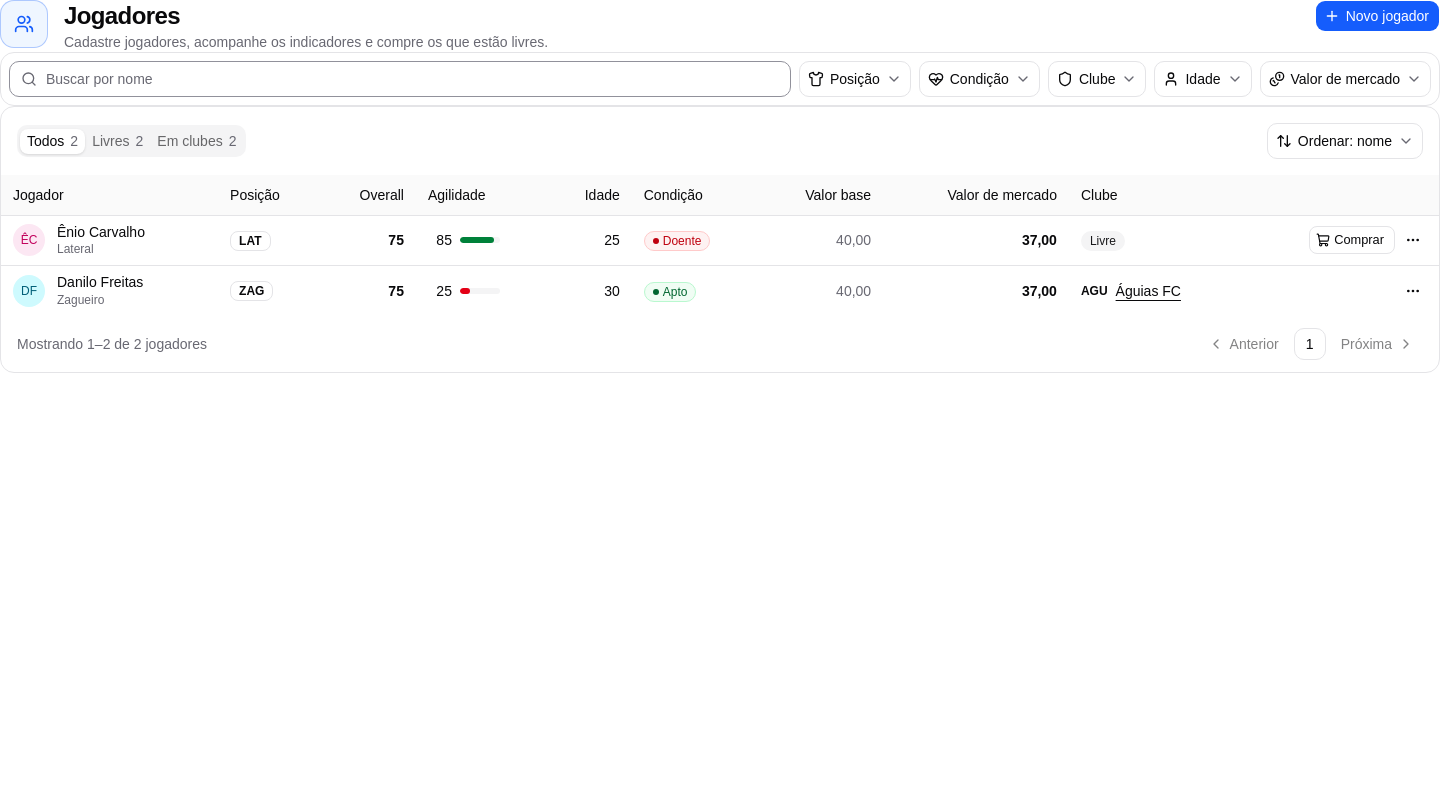
Test case: exclusão de jogador › confirma e envia o DELETE
The image size is (1440, 810).
Click the button named "Ações de Ênio Carvalho": (1413, 240) [1399,226,1427,254]
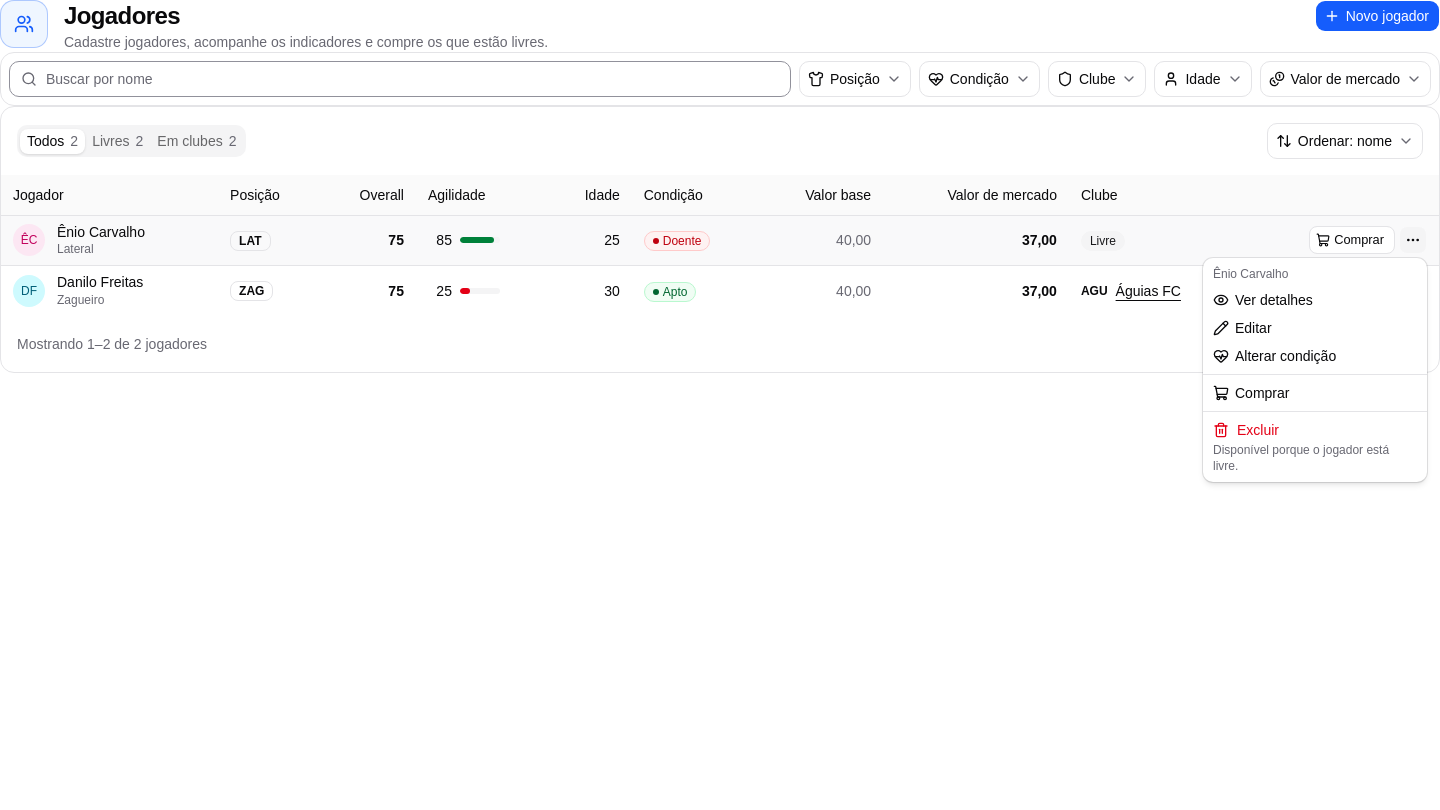
Click the menu item "Excluir Disponível porque o jogador está livre.": (1301, 448) [1213,422,1389,473]
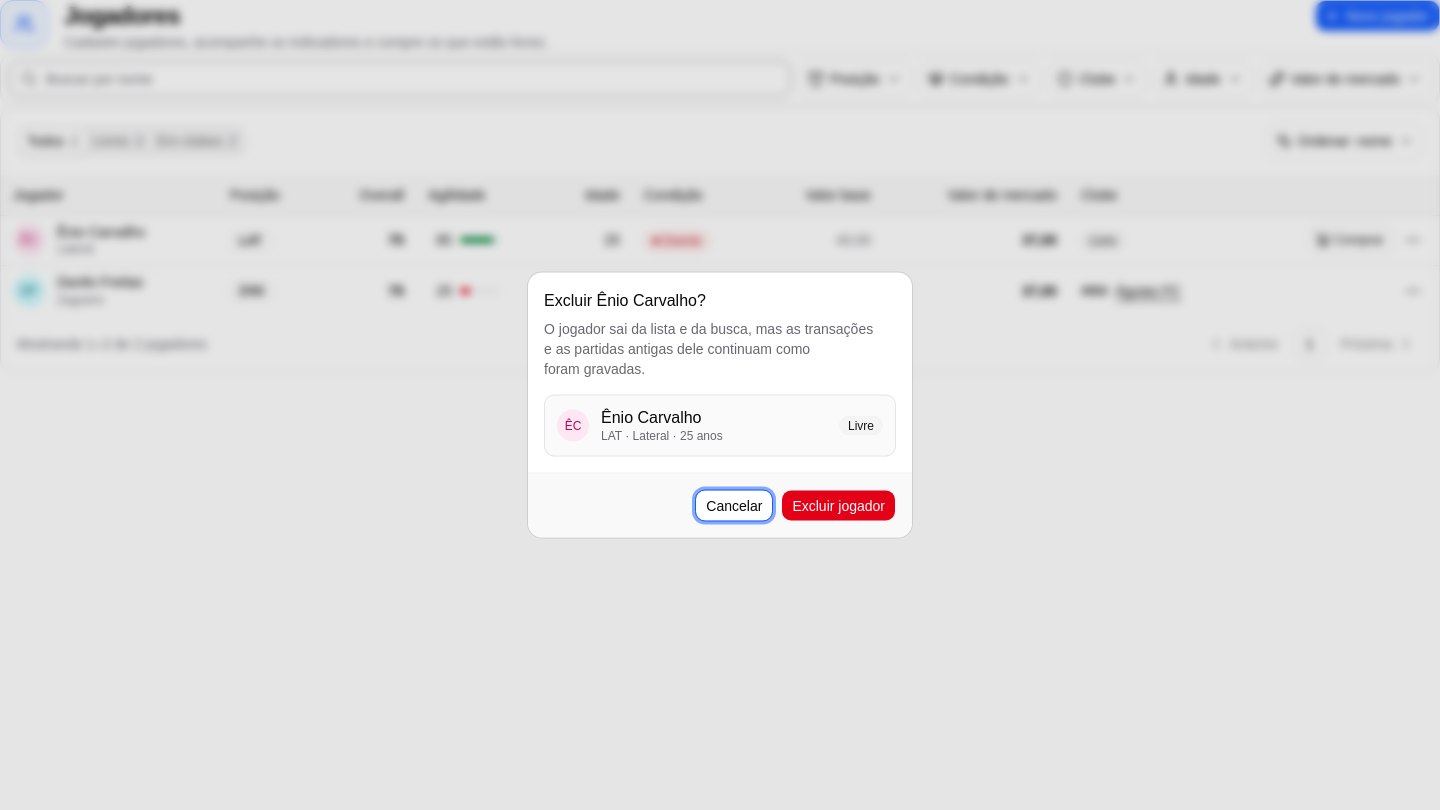
Click the button "Excluir jogador": (839, 506) [781,490,896,522]
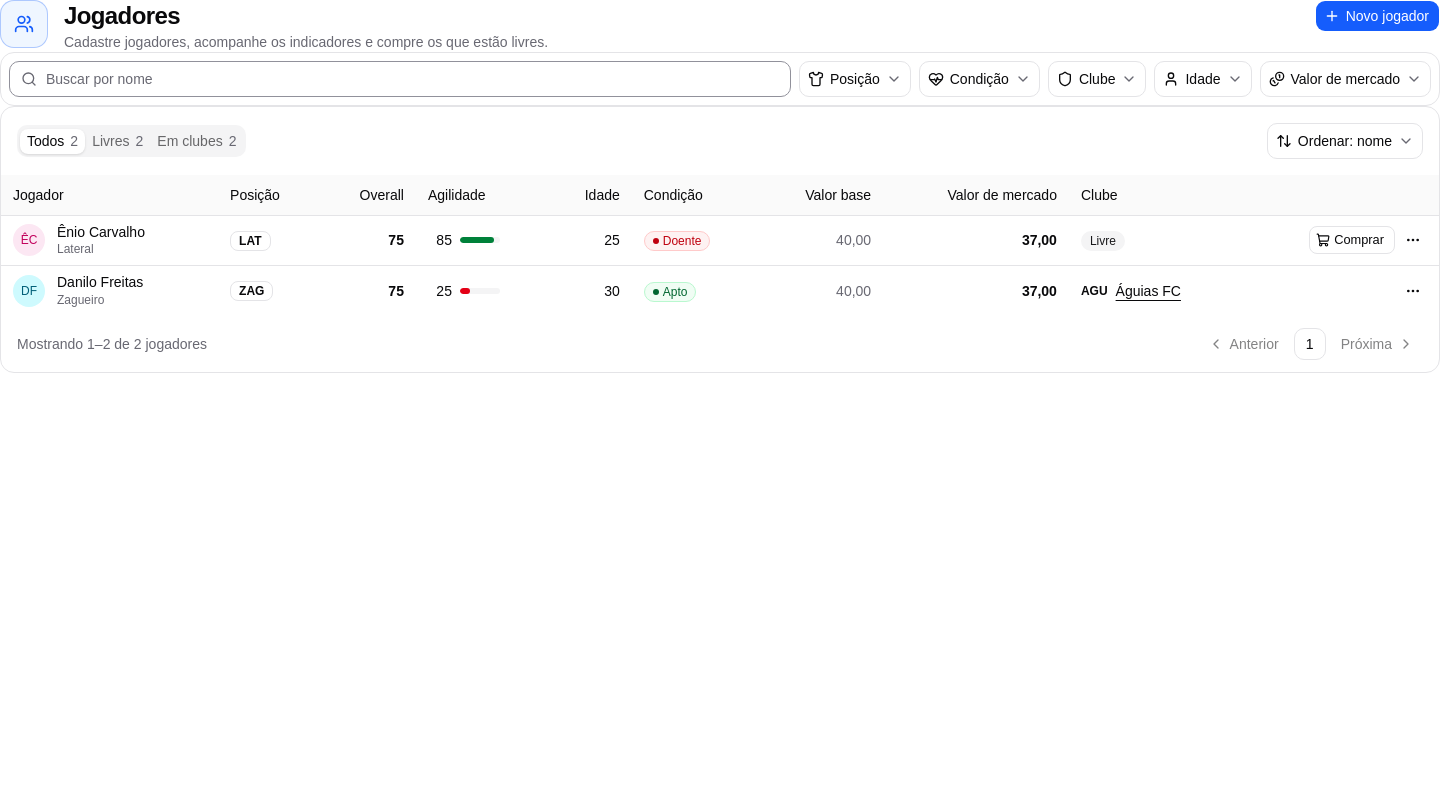
expect the button named "Ações de Ênio Carvalho" is shown: met, box [1399,226,1427,254]
expect the dialog is gone: met
